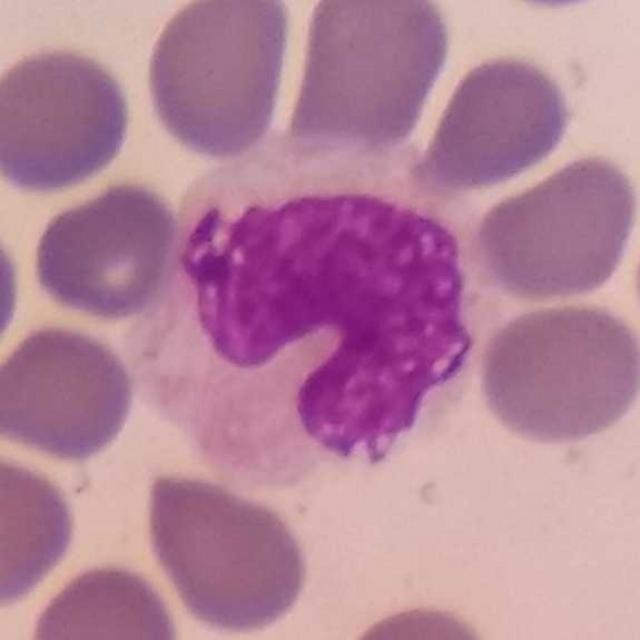Monocyte: (145, 129, 494, 484)
RBC: (139, 465, 315, 639), (284, 0, 457, 159), (467, 149, 640, 305), (139, 0, 297, 163), (474, 304, 640, 457), (411, 48, 578, 194), (27, 177, 184, 324), (0, 39, 138, 198), (0, 318, 140, 466), (0, 439, 82, 614), (22, 555, 186, 640), (331, 597, 507, 640), (0, 213, 27, 377)
